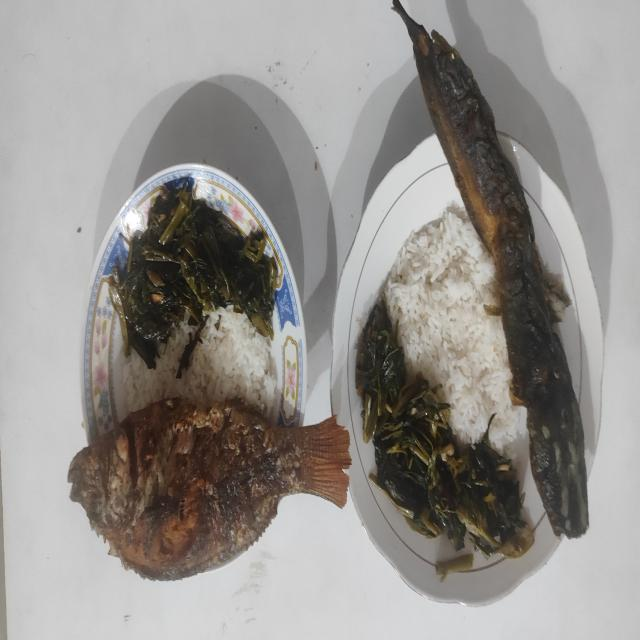ikan_mujair: (68, 398, 351, 580)
nasi_putih: (384, 201, 524, 454), (114, 308, 280, 420)
tumis_kangkung: (356, 298, 534, 558), (107, 176, 282, 369)
